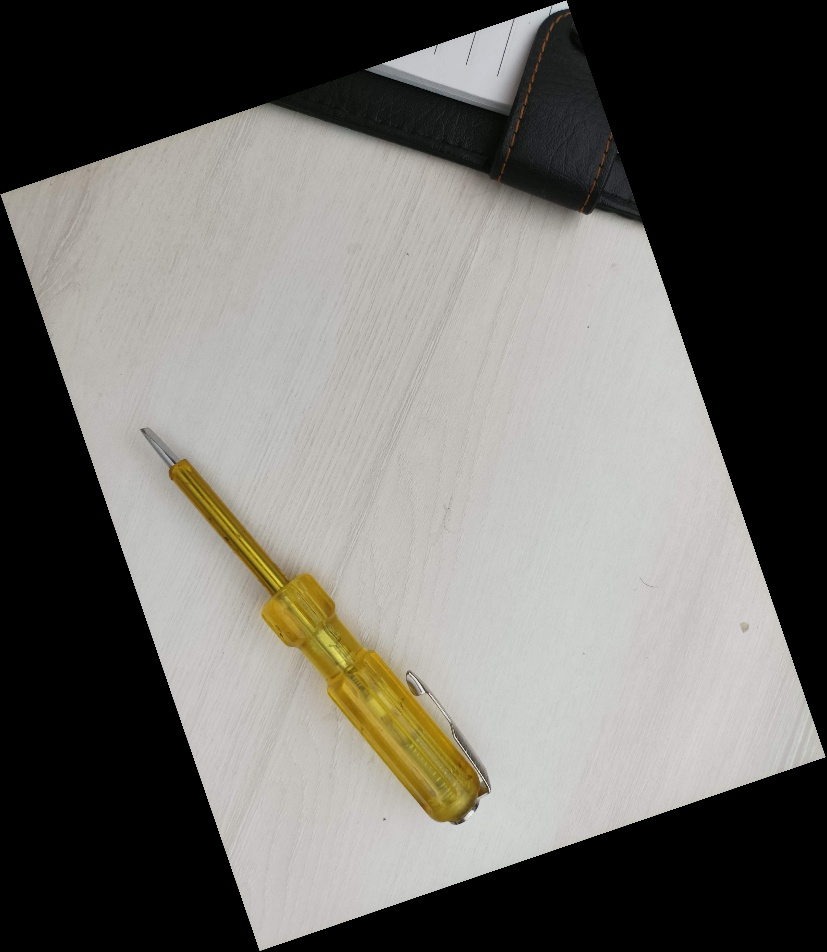screwdriver: (133, 419, 495, 828)
